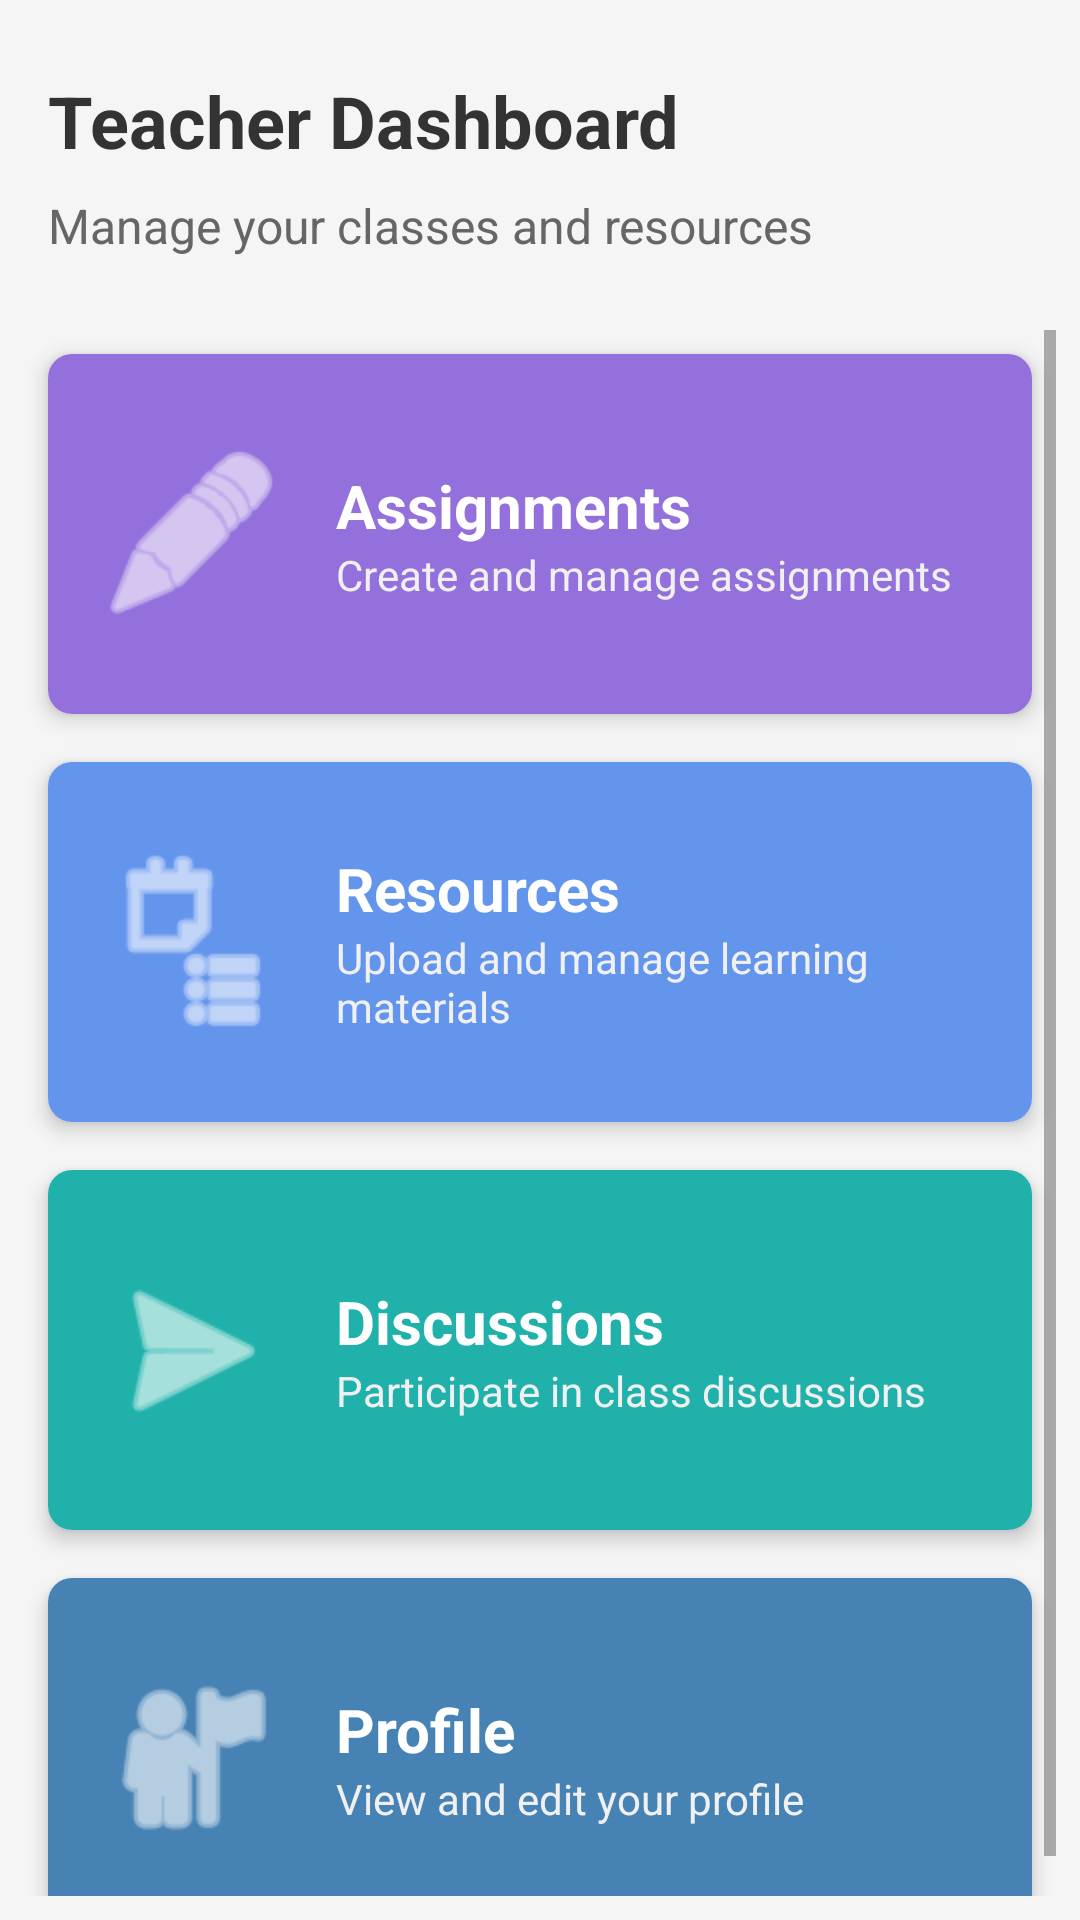

Icons on this 1080 × 1920 Android screen, each with the point to tap as [x,y]:
agenda: [193,941]
edit: [191,533]
send: [193,1351]
